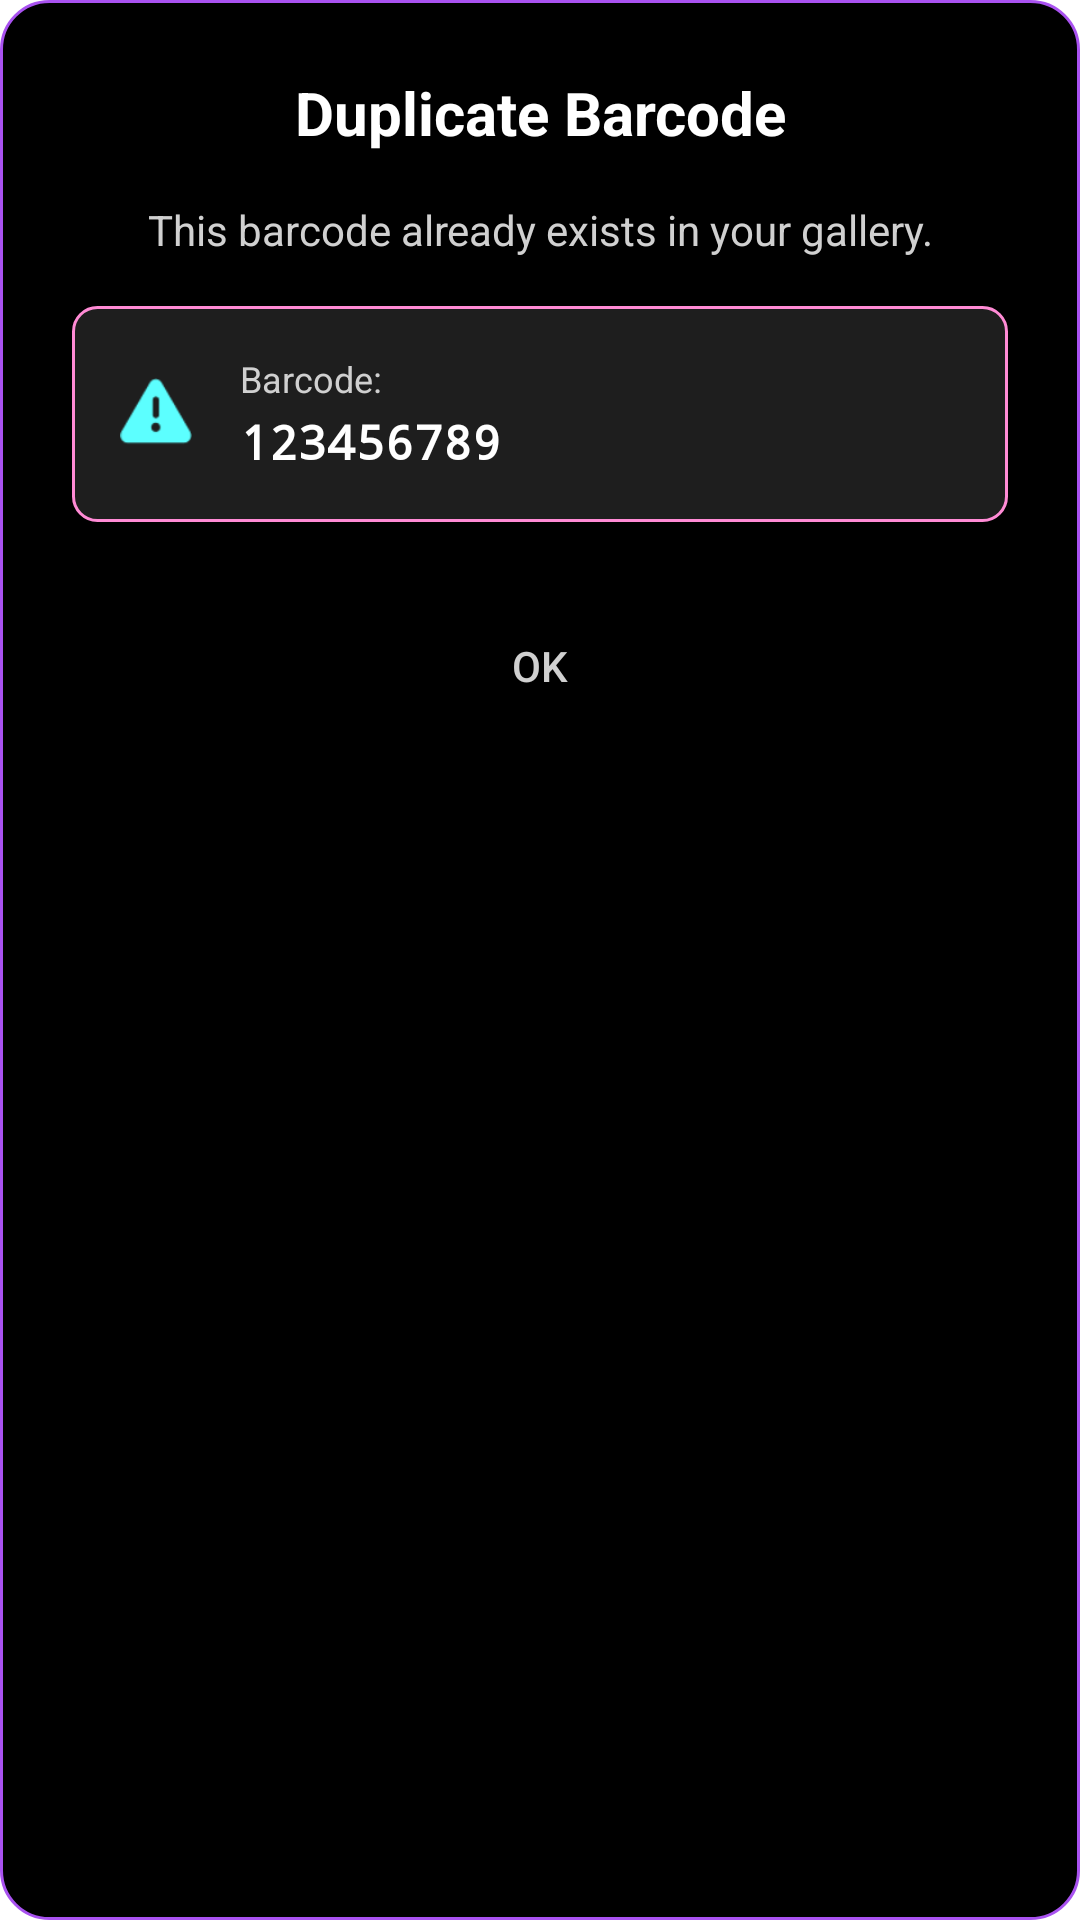

Locate icon controls on the screen. Image size 1080w x 1920h, boxes as (x1, y1, x2, y2).
alert: (120, 378, 192, 444)
